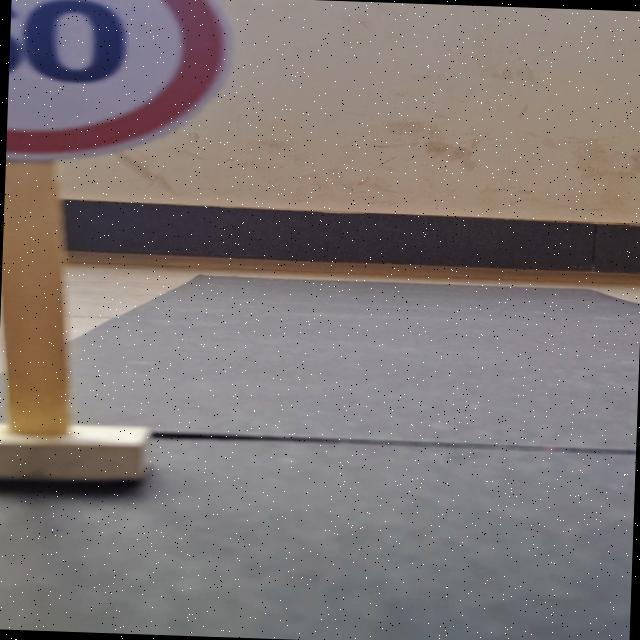Reject: (5, 0, 237, 164)
